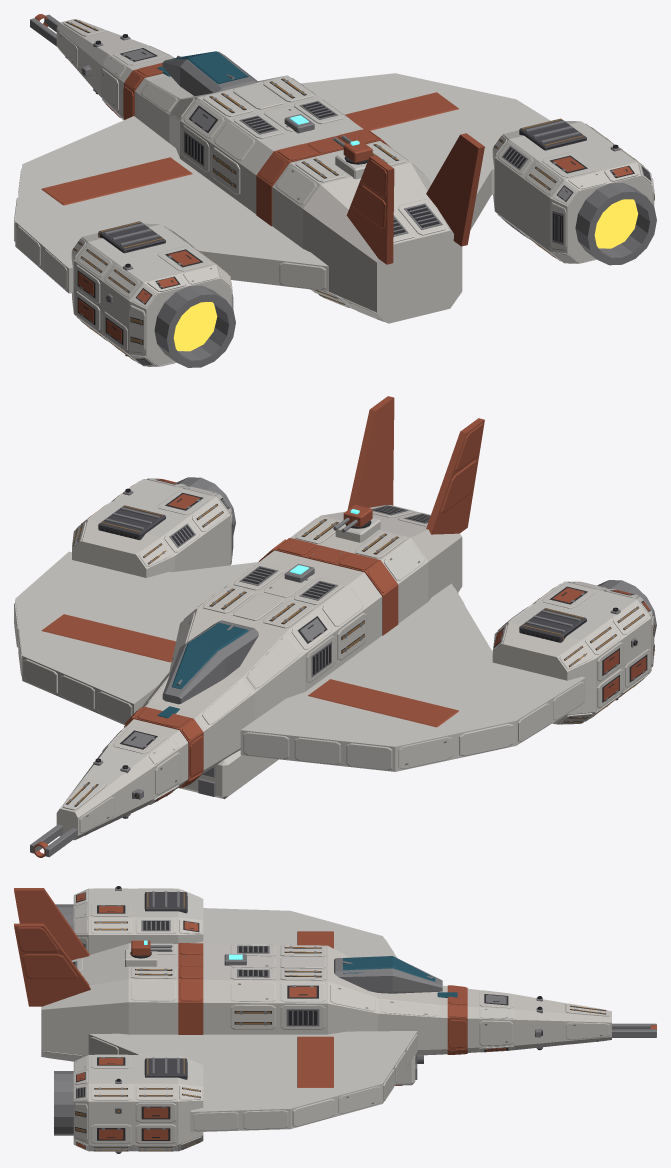
File: mars_assault_t5.glb
3 renders of one model, top to bottom at view 1: azimuth 30°, elevation 25°; view 2: azimuth 150°, elevation 25°; view 3: azimuth 270°, elevation 25°, orthographic. The views are drawn at different scales.
Parts seen in each view (by area): view 1: FleetHull; view 2: FleetHull; view 3: FleetHull.
Boxes of the visible parts, <box> form: FleetHull: <box>14,14,656,367</box>; FleetHull: <box>14,396,656,857</box>; FleetHull: <box>14,886,656,1153</box>.
Size of the model in its own units: 19.85 by 7.41 by 25.8.
